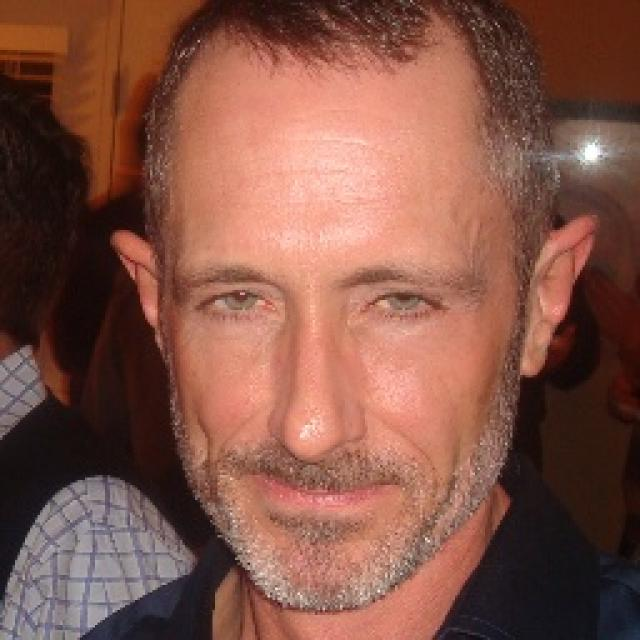earlobe: (518, 341, 549, 380), (158, 342, 168, 368)
eye: (361, 287, 446, 320), (204, 282, 272, 321)
nose: (270, 433, 366, 476)
wholeear: (521, 210, 598, 378), (110, 229, 170, 370)
